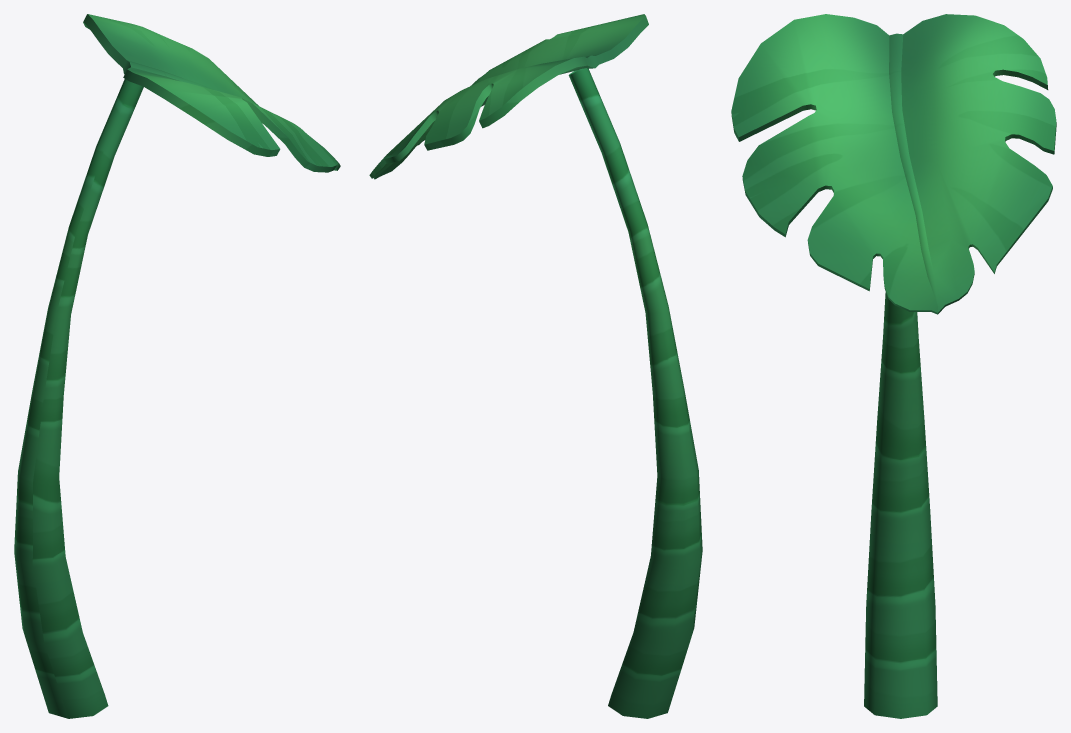
File: GiantLeaf2.fbx
3 views of the same model, side by side, from view 1: azimuth 30°, elevation 25°; view 2: azimuth 150°, elevation 25°; view 3: azimuth 270°, elevation 25° (orthographic). The views are drawn at different scales.
Parts seen in each view (by area): view 1: GiantLeaf2; view 2: GiantLeaf2; view 3: GiantLeaf2.
Boxes of the visible parts, box(x1,y1,x2,y2) form: GiantLeaf2: box(14, 14, 340, 718); GiantLeaf2: box(369, 14, 702, 718); GiantLeaf2: box(731, 14, 1056, 718).
Bounding box in the file's own units: 3.07 × 6.15 × 2.52.
